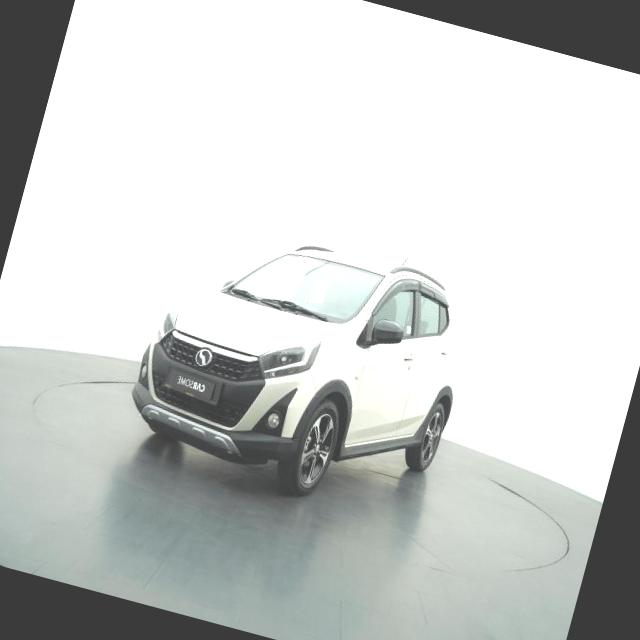PeroduaAxia: (114, 196, 488, 530)
